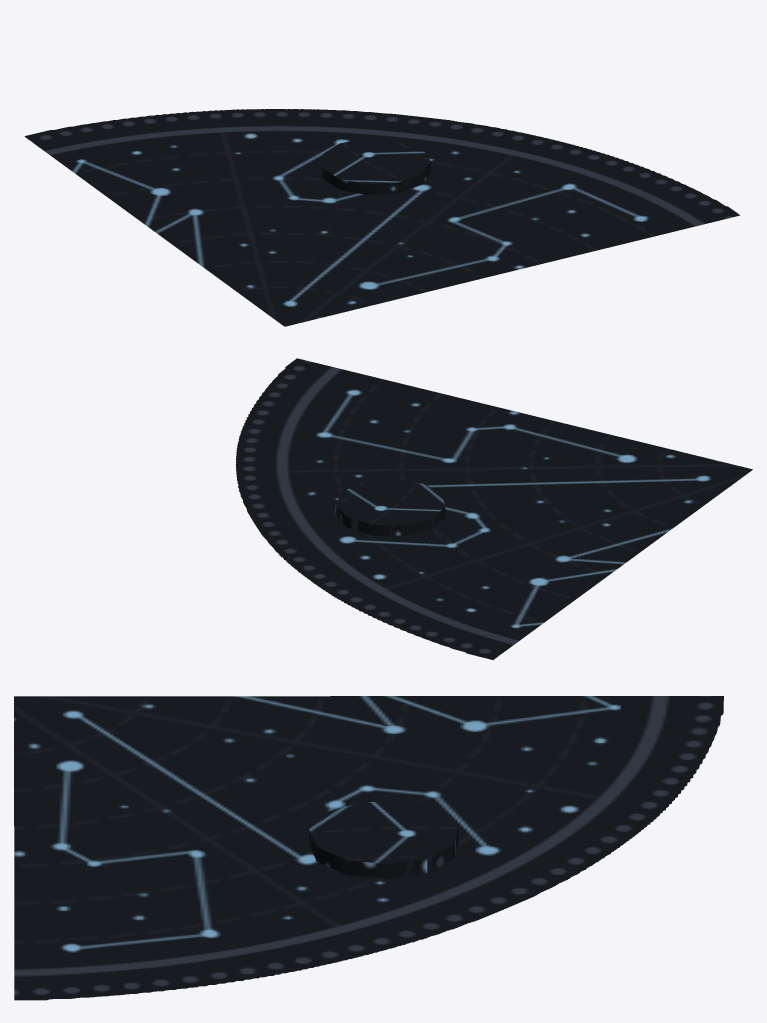
File: caesar_key.FBX
3 views of the same model, one above another, from view 1: azimuth 30°, elevation 25°; view 2: azimuth 150°, elevation 25°; view 3: azimuth 270°, elevation 25° (orthographic). The views are drawn at different scales.
Visible parts, largest first — view 1: Caesar_key; view 2: Caesar_key; view 3: Caesar_key.
Part boxes in pixels (x1,y1,x2,y2): Caesar_key: (24,109,739,326); Caesar_key: (235,358,752,659); Caesar_key: (14,696,723,1000).
Size of the model in its own units: 25.01 by 1.07 by 25.01.
